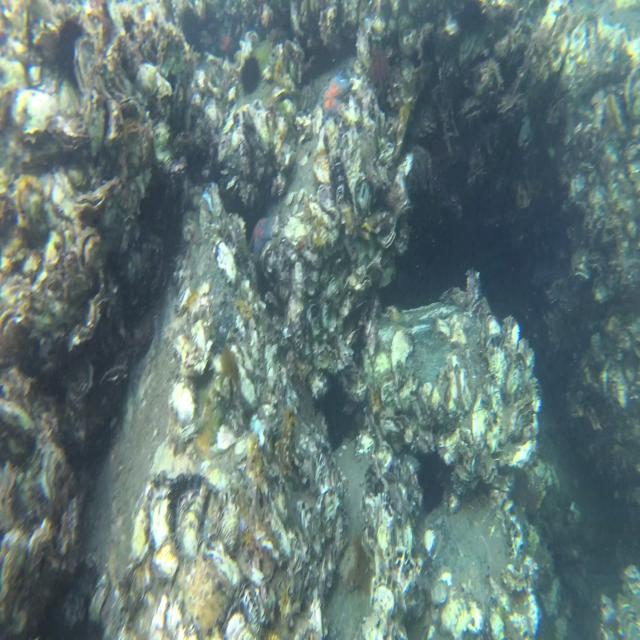echinus: (52, 12, 95, 92), (235, 52, 264, 96)
starfish: (318, 72, 355, 123), (247, 211, 276, 264)
